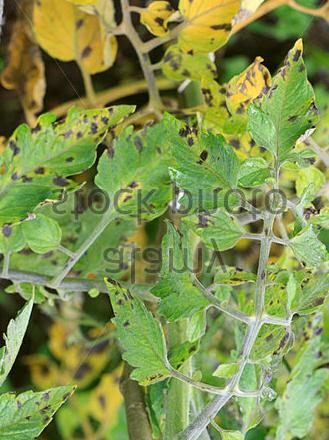Tomato Early blight leaf: (0, 104, 139, 186), (253, 33, 321, 160), (105, 275, 178, 390), (160, 118, 246, 211), (0, 379, 82, 440)
